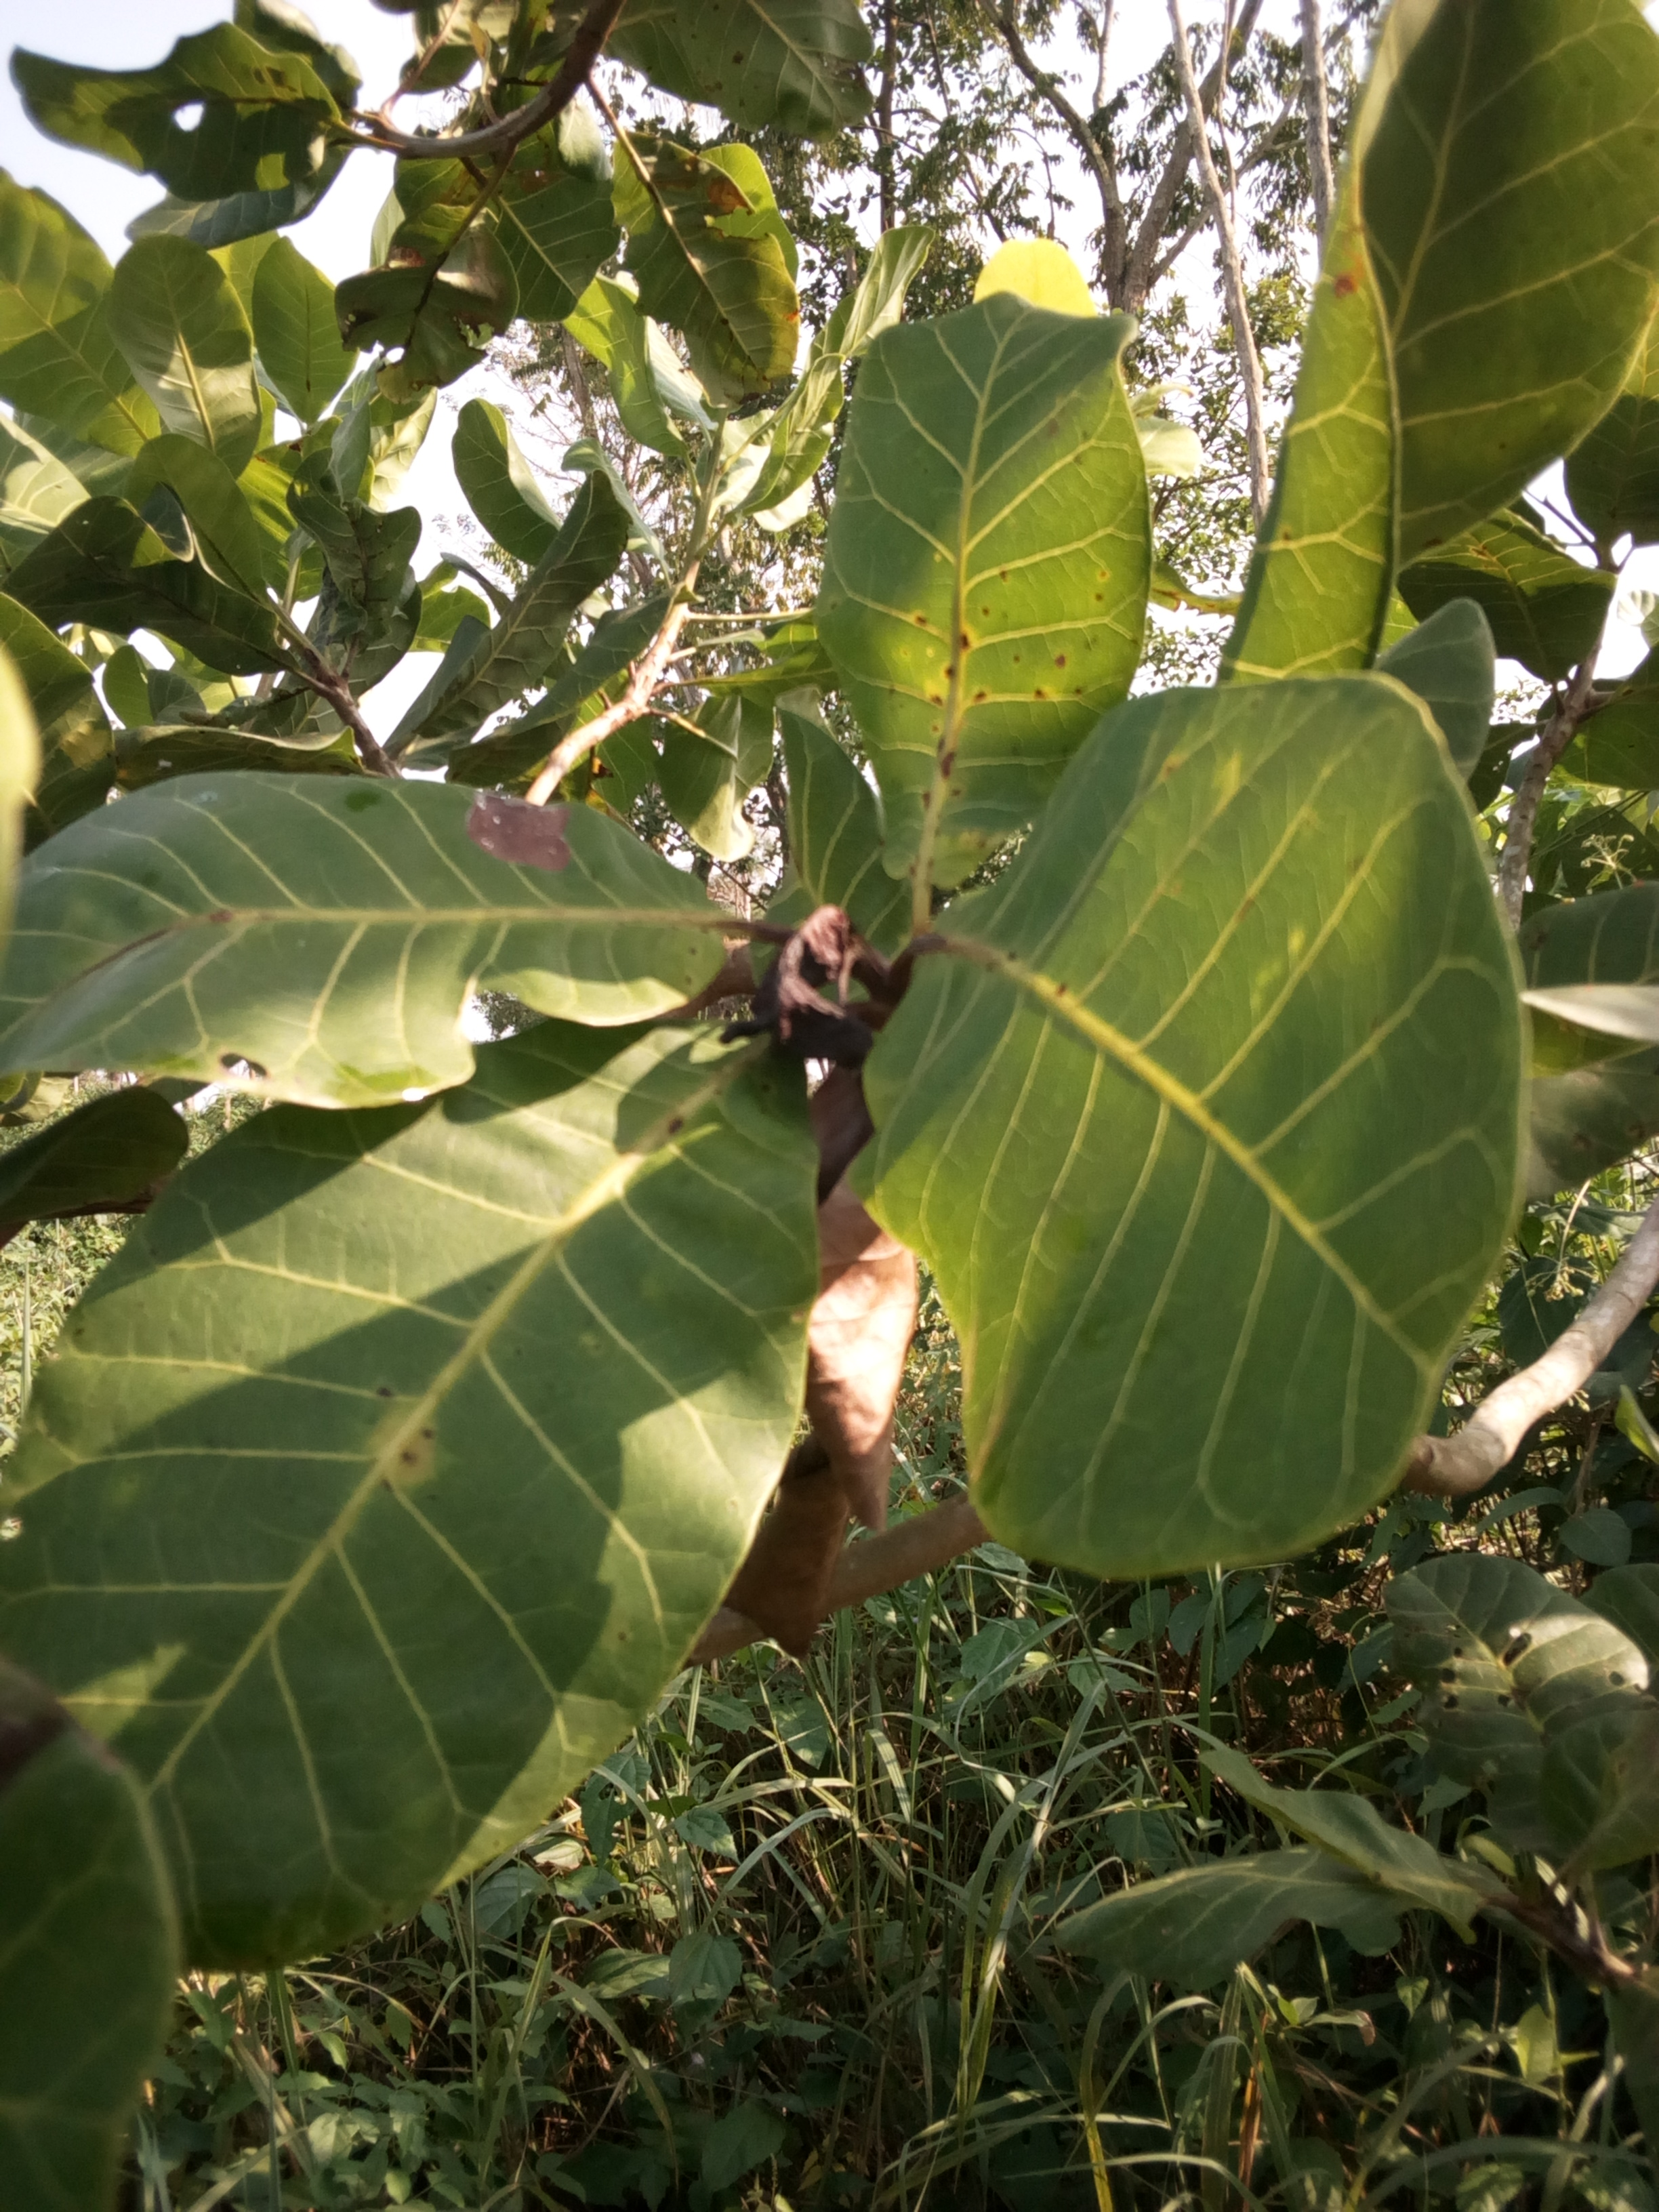Pestalotiose: (84, 1021, 796, 1815), (836, 314, 1124, 866)
